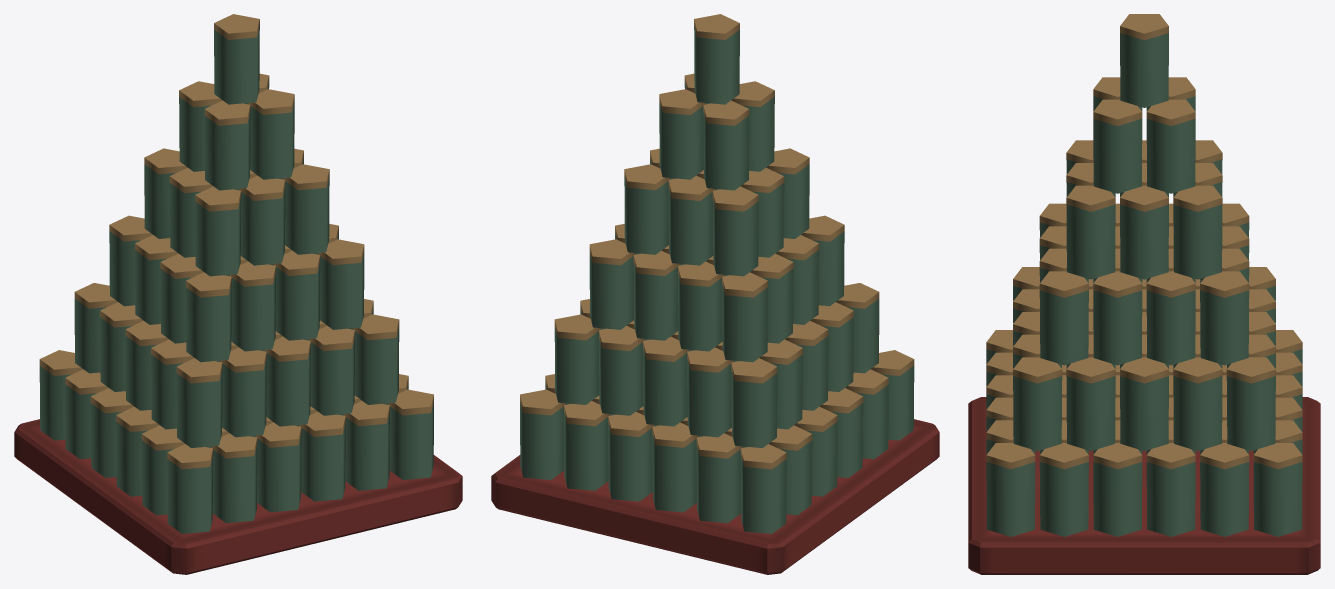
3 renders of one model, left to right at view 1: azimuth 30°, elevation 25°; view 2: azimuth 150°, elevation 25°; view 3: azimuth 270°, elevation 25°, orthographic. The views are drawn at different scales.
Parts seen in each view (by area): view 1: Six stepped tin courses, Banquet plinth; view 2: Six stepped tin courses, Banquet plinth; view 3: Six stepped tin courses, Banquet plinth.
Part boxes in pixels (bbox=[...]): Six stepped tin courses: bbox=[39, 14, 433, 533]; Banquet plinth: bbox=[14, 419, 462, 574]; Six stepped tin courses: bbox=[520, 14, 914, 533]; Banquet plinth: bbox=[491, 419, 939, 574]; Six stepped tin courses: bbox=[986, 14, 1302, 536]; Banquet plinth: bbox=[968, 397, 1320, 574].
Bounding box in the file's own units: 1.63 × 2.45 × 1.63.
Materials: 1 (1 with a texture image).
